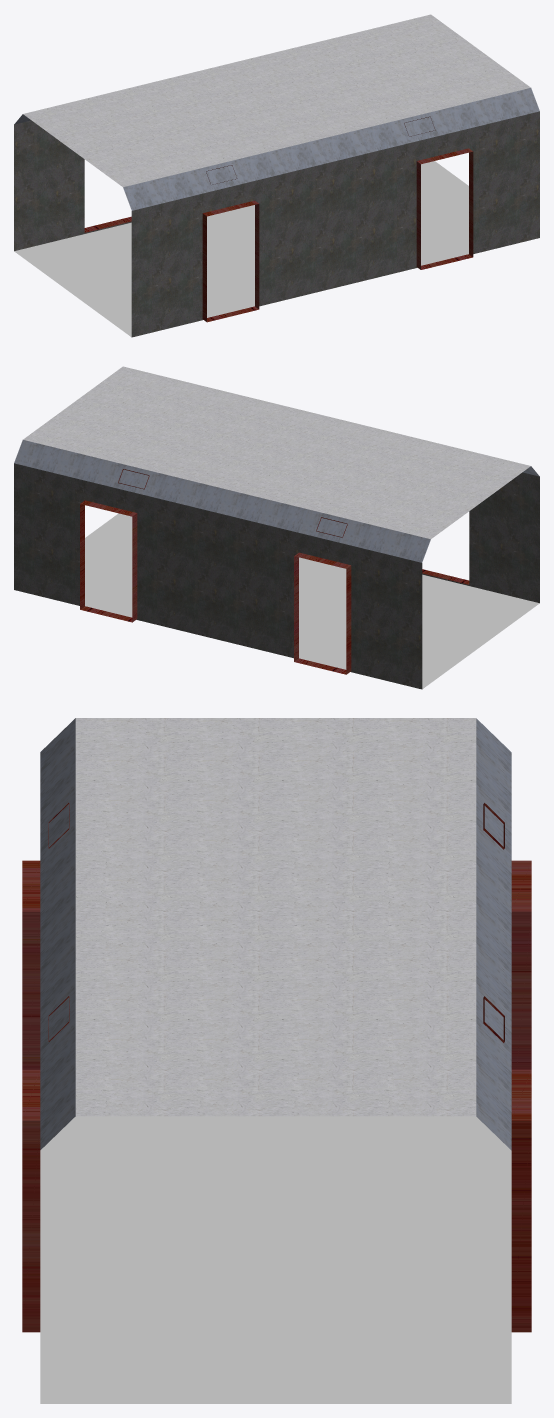
Rendered from starship_section_cells.FBX.
The picture shows the model from 3 angles, top to bottom: view 1: azimuth 30°, elevation 25°; view 2: azimuth 150°, elevation 25°; view 3: azimuth 270°, elevation 25°; orthographic projection. The views are drawn at different scales.
Visible parts, largest first — view 1: TonnelWithCells; view 2: TonnelWithCells; view 3: TonnelWithCells.
Part boxes in pixels (x1=…): TonnelWithCells: x1=14, y1=14, x2=539, y2=337; TonnelWithCells: x1=14, y1=366, x2=539, y2=689; TonnelWithCells: x1=22, y1=718, x2=531, y2=1403.
Bounding box in the file's own units: 4.87 × 1.64 × 2.63.
